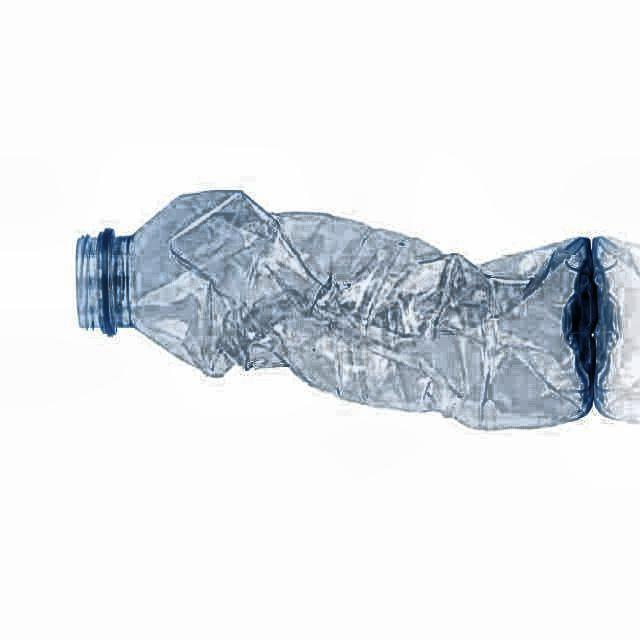plastic: (78, 191, 598, 429)
